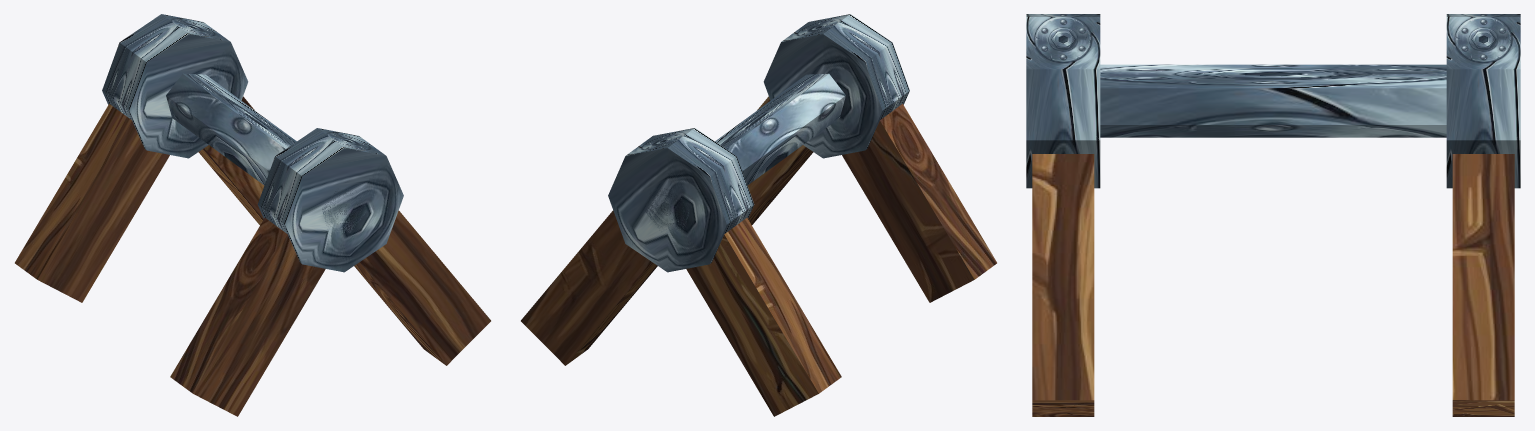
The model's file is saw-mount.glb.
3 renders of one model, left to right at view 1: azimuth 30°, elevation 25°; view 2: azimuth 150°, elevation 25°; view 3: azimuth 270°, elevation 25°, orthographic. The views are drawn at different scales.
Visible parts, largest first — view 1: saw-mount; view 2: saw-mount; view 3: saw-mount.
Part boxes in pixels (x1,y1,x2,y2): saw-mount: (15,14,490,416); saw-mount: (521,14,996,416); saw-mount: (1026,14,1520,416).
Bounding box in the file's own units: 0.3766 × 0.2956 × 0.4.
Materials: 2 (2 with a texture image).
